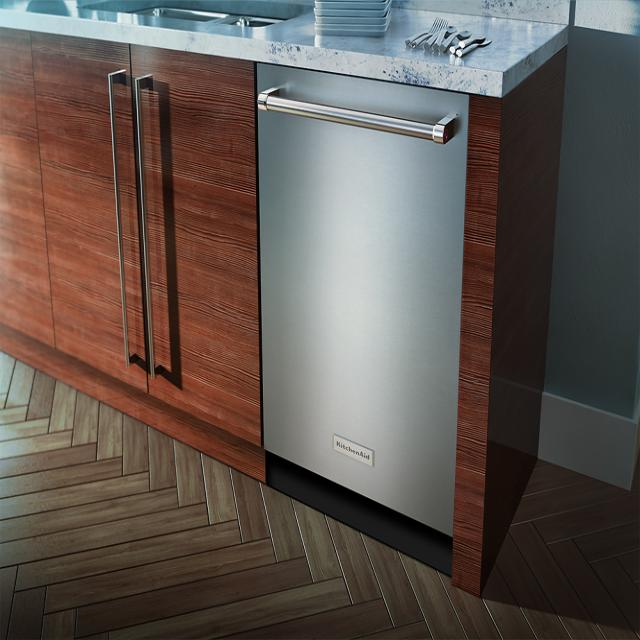dishwasher: (250, 49, 472, 582)
